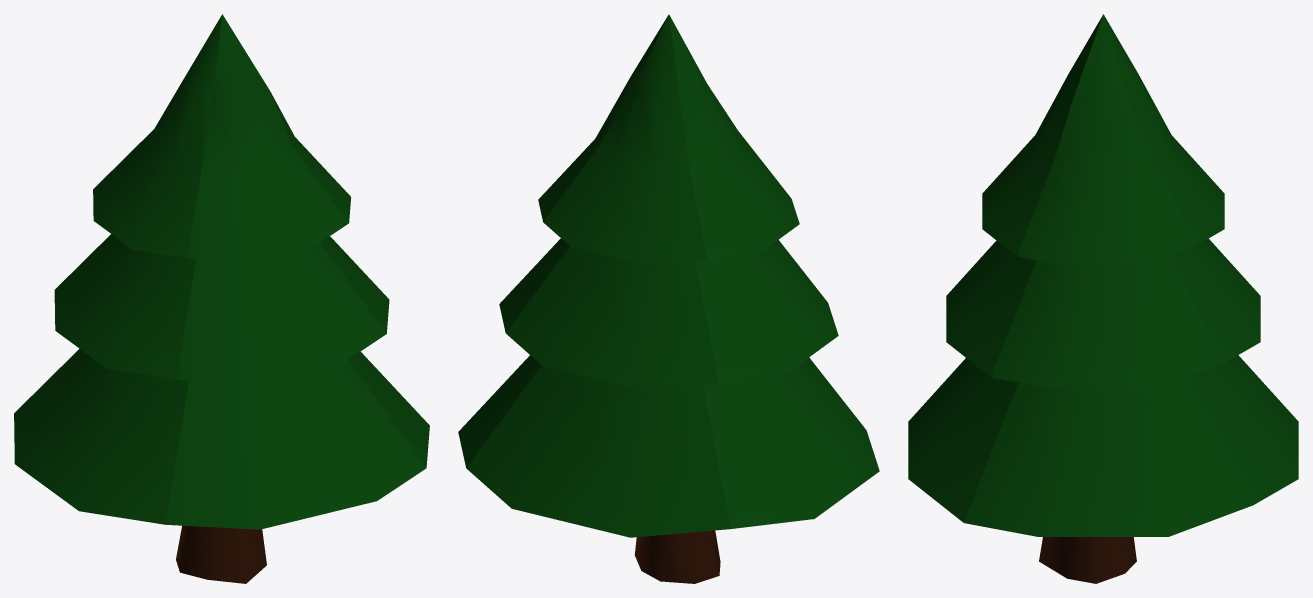
Rendered from Tree 8.FBX.
3 renders of one model, left to right at view 1: azimuth 30°, elevation 25°; view 2: azimuth 150°, elevation 25°; view 3: azimuth 270°, elevation 25°, orthographic.
Parts seen in each view (by area): view 1: Cylinder001; view 2: Cylinder001; view 3: Cylinder001.
Boxes of the visible parts, x1=… form: Cylinder001: x1=14, y1=14, x2=429, y2=583; Cylinder001: x1=458, y1=14, x2=879, y2=583; Cylinder001: x1=908, y1=14, x2=1298, y2=583.
Bounding box in the file's own units: 132 × 196 × 126.
